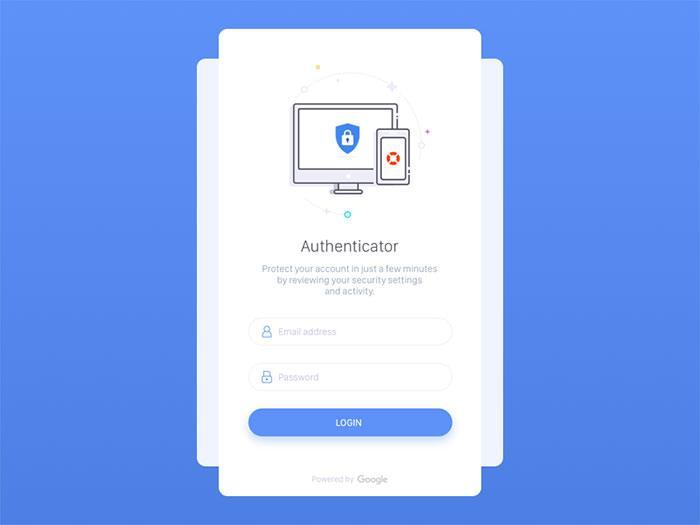button: (251, 407, 453, 438)
input: (249, 316, 453, 349), (249, 363, 453, 395)
